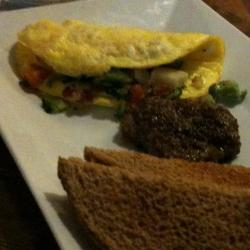bread: (43, 138, 250, 249)
omelette: (19, 12, 230, 119)
